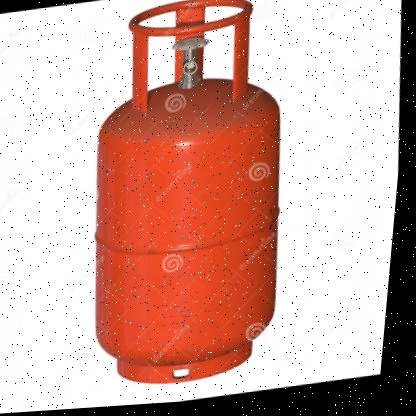gas-tank: (53, 0, 338, 409)
